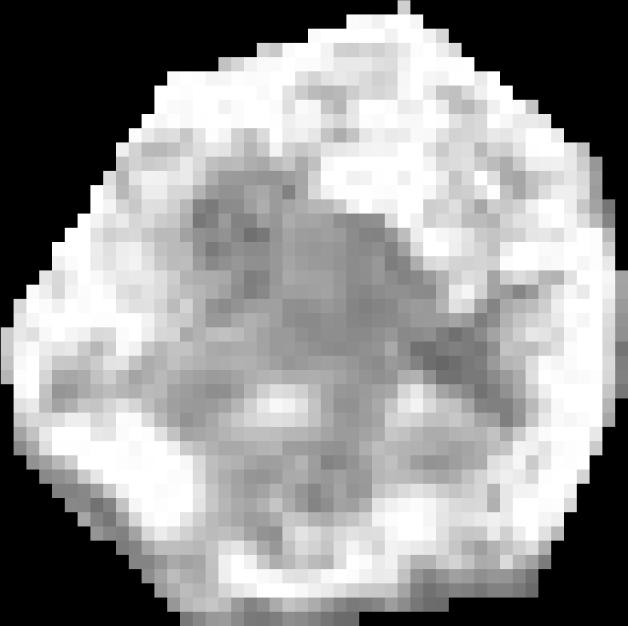tumor_good_chance: (1, 0, 628, 626)
